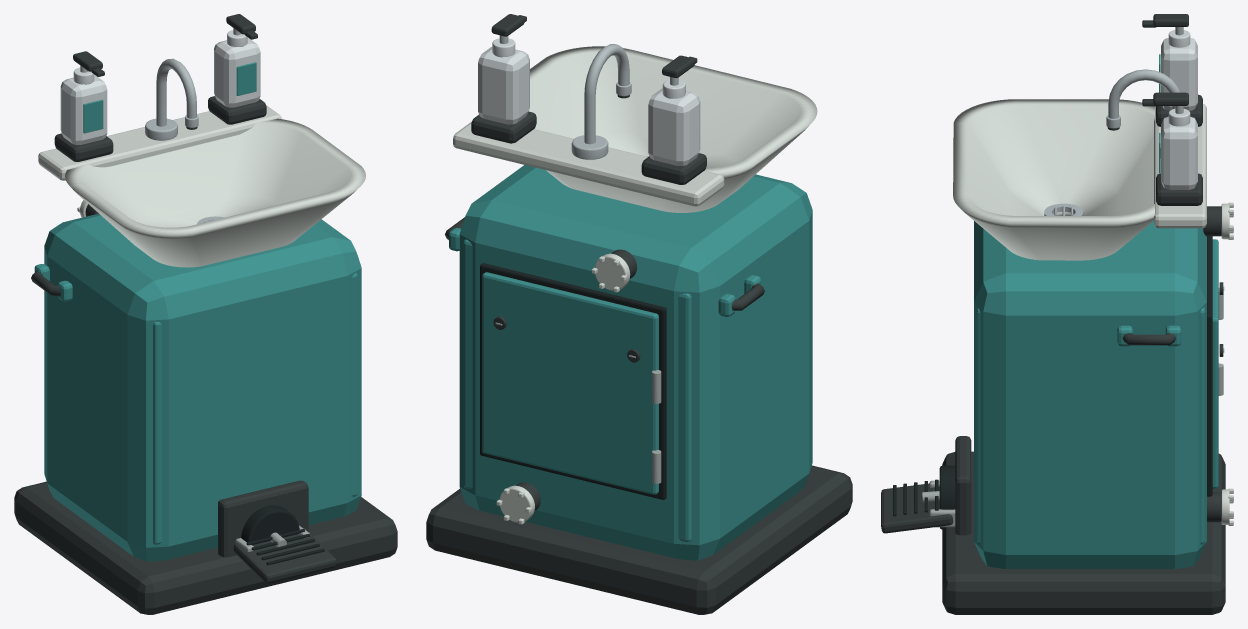
The model's file is city-portable-handwash-station.glb.
3 views of the same model, side by side, from view 1: azimuth 30°, elevation 25°; view 2: azimuth 150°, elevation 25°; view 3: azimuth 270°, elevation 25° (orthographic). The views are drawn at different scales.
Visible parts, largest first — view 1: Assembly | Molded teal tank polymer, Assembly | Molded basin ivory, Assembly | Graphite cast metal, Assembly | Opaque soap dispenser body, Assembly | Charcoal elastomer, Assembly | Satin stainless steel; view 2: Assembly | Molded teal tank polymer, Assembly | Molded basin ivory, Assembly | Graphite cast metal, Assembly | Opaque soap dispenser body, Assembly | Charcoal elastomer, Assembly | Satin stainless steel, Assembly | Dull galvanized hardware; view 3: Assembly | Molded teal tank polymer, Assembly | Molded basin ivory, Assembly | Graphite cast metal, Assembly | Opaque soap dispenser body, Assembly | Charcoal elastomer, Assembly | Satin stainless steel, Assembly | Dull galvanized hardware.
Part boxes in pixels (x1,y1,x2,y2): Assembly | Molded teal tank polymer: (34,62,361,561); Assembly | Molded basin ivory: (38,105,365,267); Assembly | Graphite cast metal: (14,14,397,614); Assembly | Opaque soap dispenser body: (60,30,260,144); Assembly | Charcoal elastomer: (241,505,324,565); Assembly | Satin stainless steel: (80,28,240,224); Assembly | Molded teal tank polymer: (449,165,812,560); Assembly | Molded basin ivory: (453,46,817,524); Assembly | Graphite cast metal: (426,14,852,614); Assembly | Opaque soap dispenser body: (478,38,700,165); Assembly | Charcoal elastomer: (480,263,666,499); Assembly | Satin stainless steel: (495,35,678,358); Assembly | Dull galvanized hardware: (652,370,661,483); Assembly | Molded teal tank polymer: (974,54,1218,568); Assembly | Molded basin ivory: (953,99,1233,525); Assembly | Graphite cast metal: (881,14,1225,614); Assembly | Opaque soap dispenser body: (1161,30,1197,189); Assembly | Charcoal elastomer: (893,236,1212,529); Assembly | Satin stainless steel: (1044,27,1224,352); Assembly | Dull galvanized hardware: (922,287,1223,527).
Size of the model in its own units: 0.7139 by 1.2 by 0.7719.
